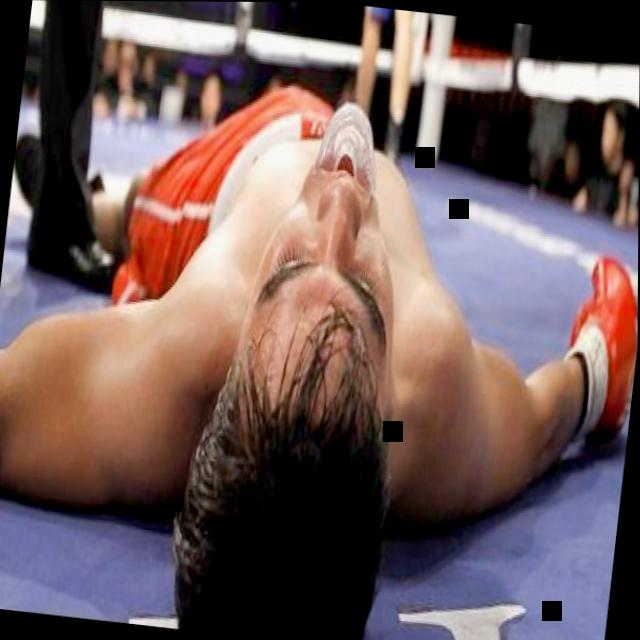Fall-Detected: (0, 18, 640, 640)
